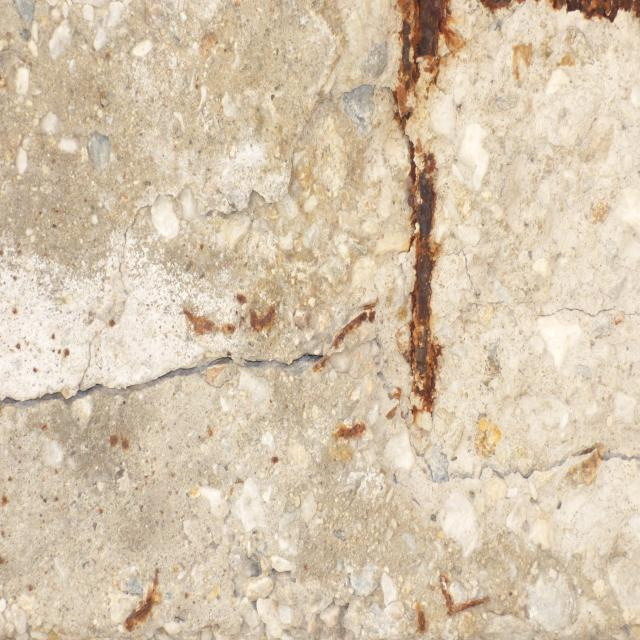Rebar: (387, 1, 640, 424), (312, 298, 381, 374), (413, 570, 492, 634), (180, 290, 278, 336), (124, 567, 159, 633), (332, 417, 370, 442)
diagonal crack: (76, 84, 396, 392)
horizontal crack: (0, 330, 406, 410), (403, 432, 640, 488)
